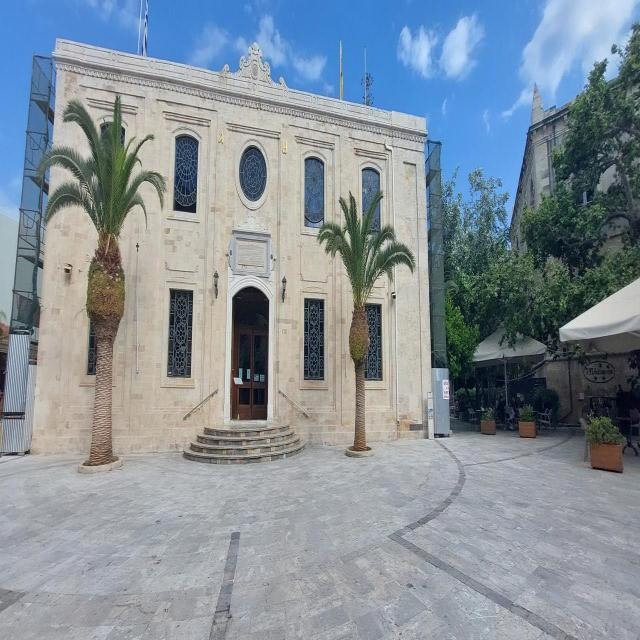Agios Titos: (30, 46, 430, 445)
